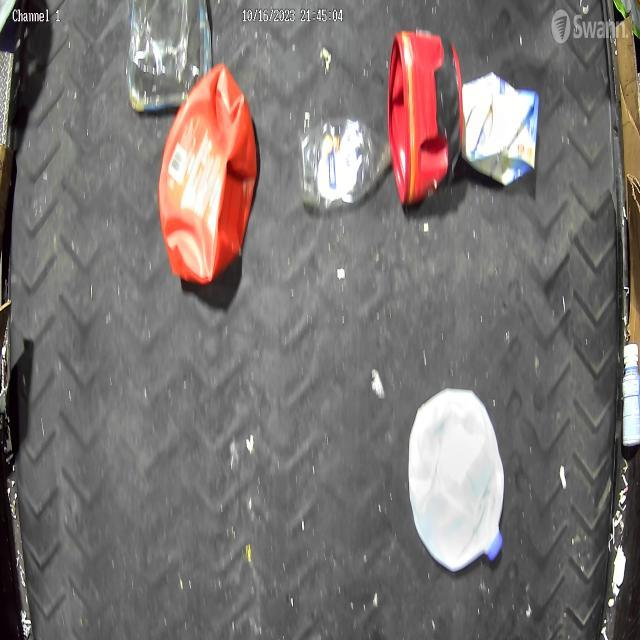milk_jug: (408, 386, 506, 574)
non_white_jug: (158, 61, 259, 286), (388, 29, 464, 210), (462, 70, 540, 186)
